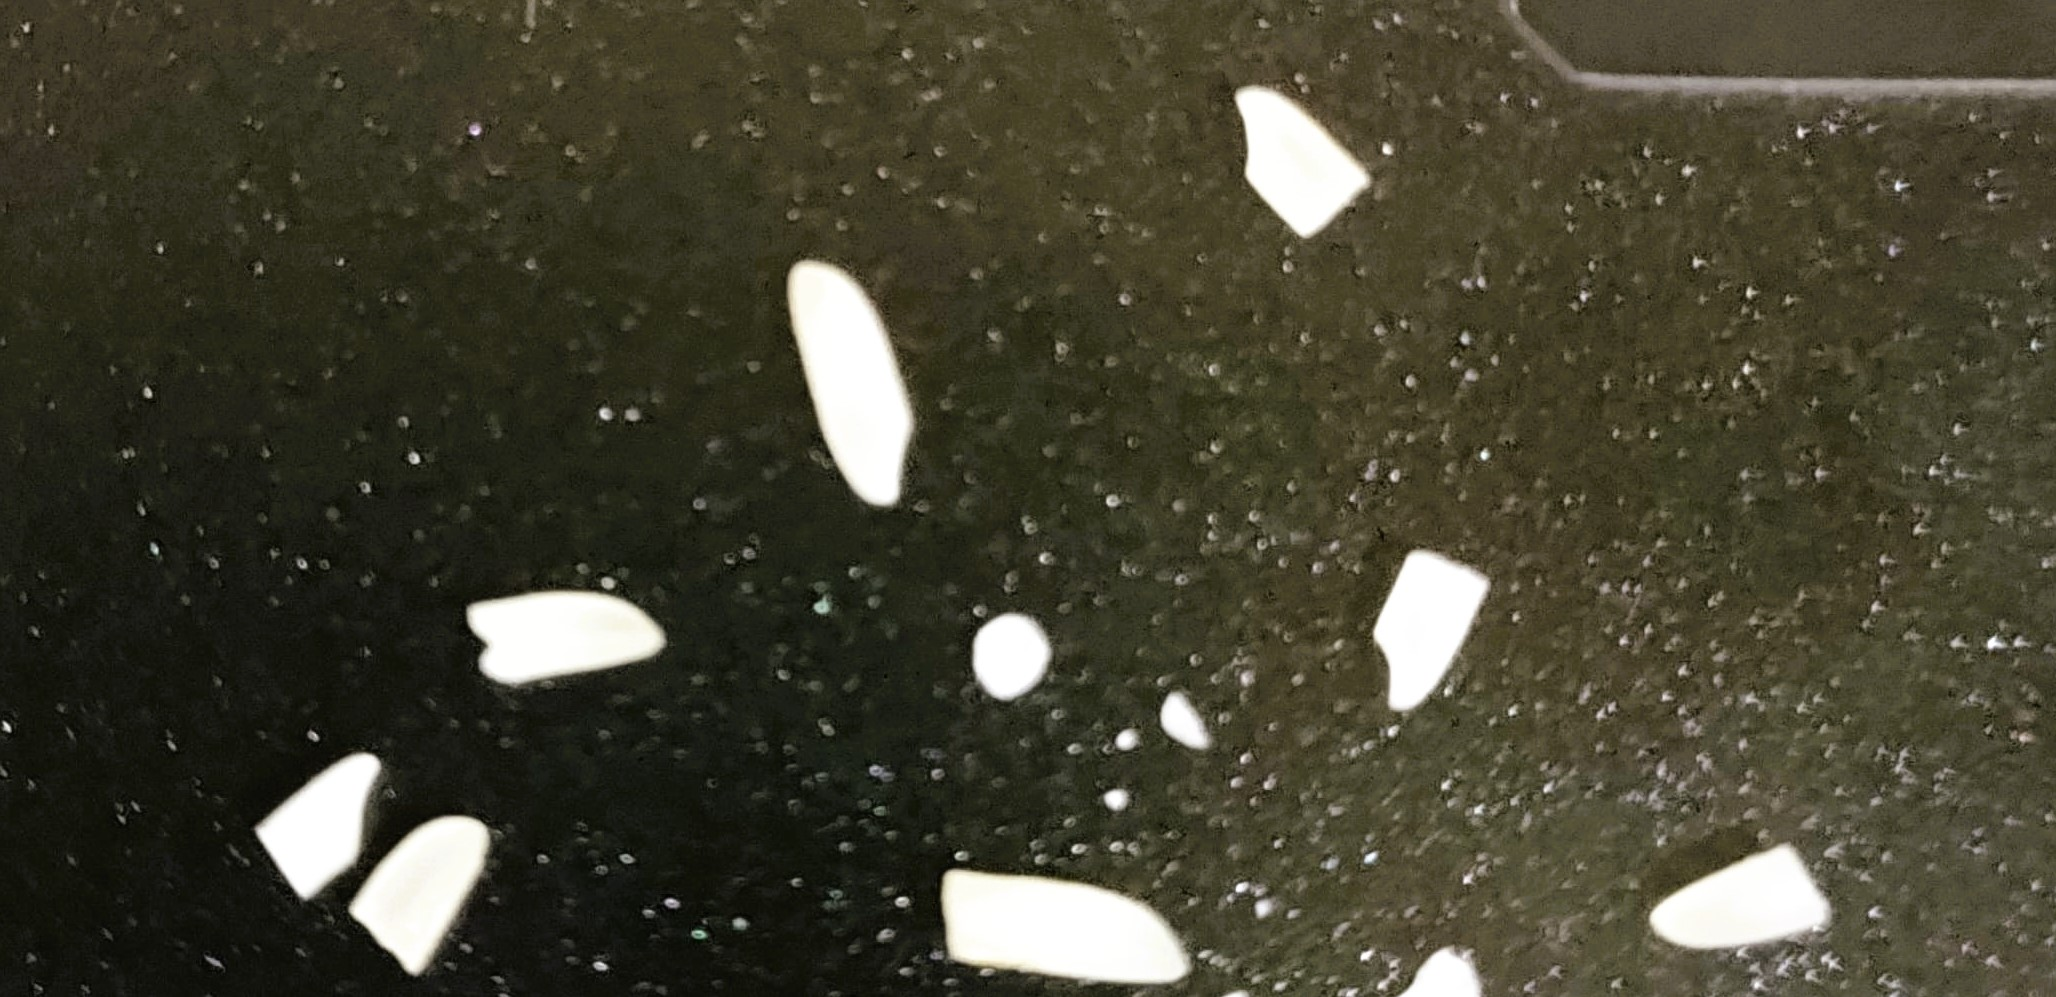broken_grain: (928, 855, 1198, 995), (454, 580, 702, 695), (342, 807, 504, 980), (1642, 837, 1850, 968), (1232, 81, 1378, 244), (1368, 539, 1499, 717), (243, 739, 386, 900), (969, 606, 1057, 700)
complete_grain: (779, 247, 946, 531)
